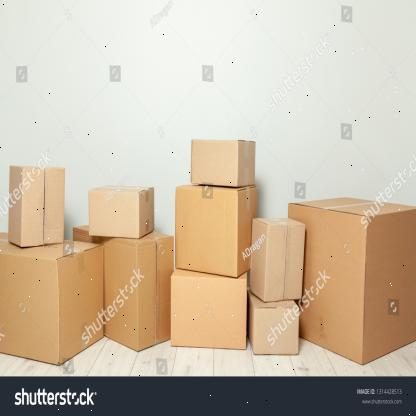box: (286, 203, 367, 367), (0, 250, 59, 364), (175, 186, 237, 277), (172, 276, 246, 349), (138, 236, 173, 352), (22, 165, 66, 247), (263, 224, 305, 302), (89, 189, 140, 238), (190, 140, 238, 188), (254, 310, 299, 352)
